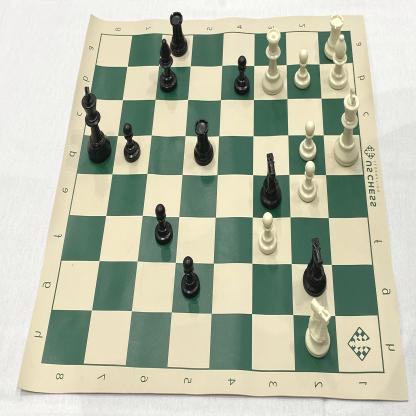black-bishop: (154, 38, 180, 96)
black-king: (78, 82, 114, 165)
black-knight: (299, 231, 330, 300), (256, 147, 284, 216)
black-pawn: (176, 250, 202, 302), (152, 198, 176, 250), (233, 53, 254, 101), (121, 118, 142, 166)
black-rook: (190, 114, 216, 171), (167, 6, 190, 60)
white-bishop: (326, 33, 352, 91)
white-king: (331, 84, 363, 170)
white-knight: (300, 294, 336, 364)
white-pawn: (289, 44, 314, 94), (295, 158, 320, 207), (255, 210, 280, 258), (296, 117, 320, 164)
white-queen: (257, 24, 287, 100)
white-rook: (320, 11, 347, 64)
